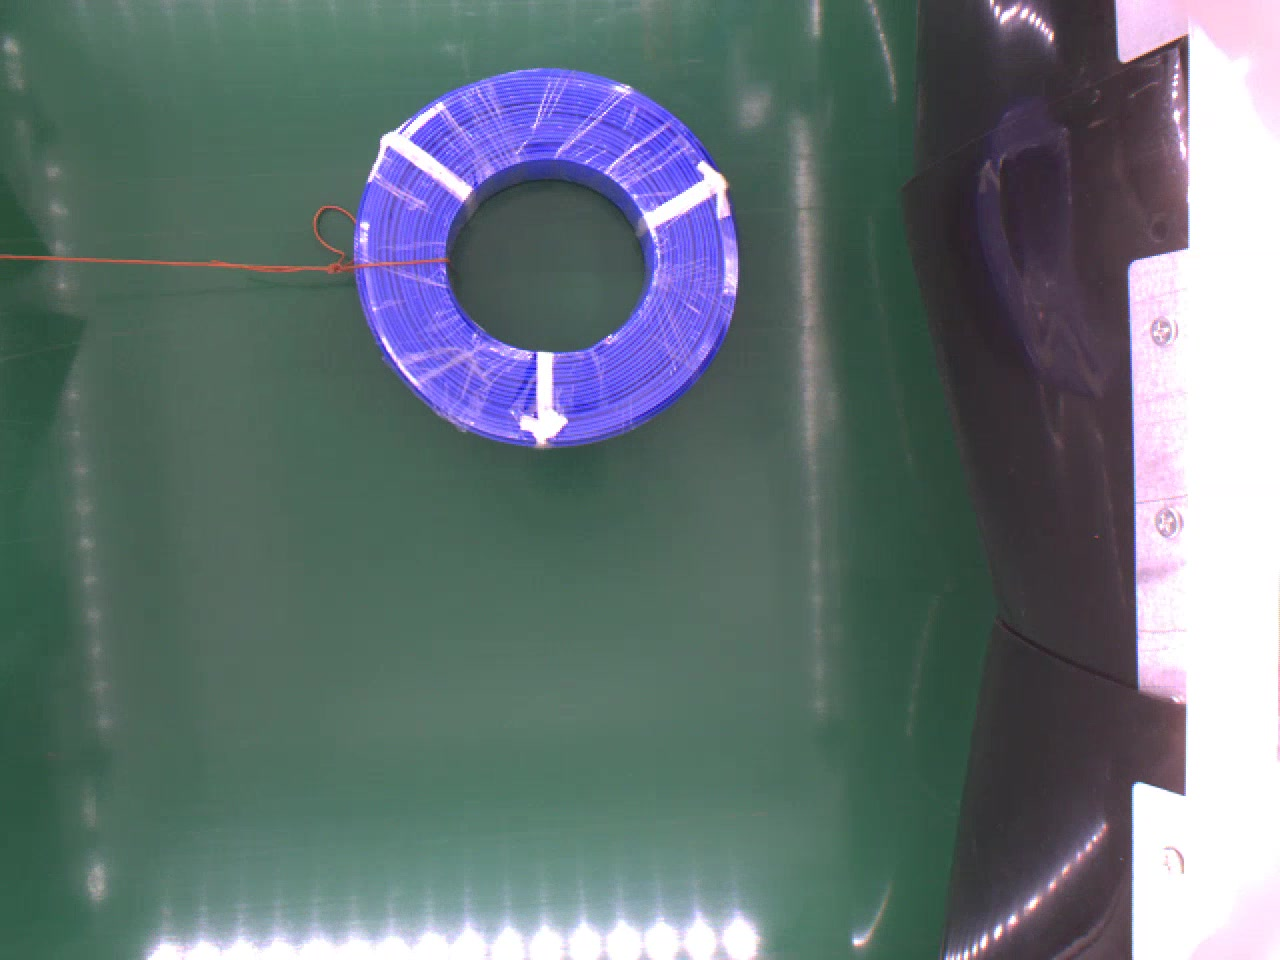blue: (359, 61, 739, 447)
